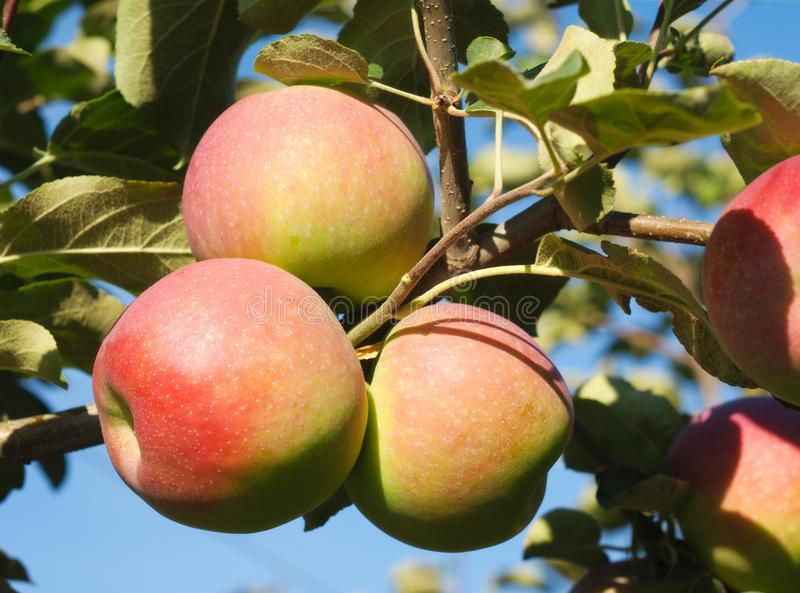apple: (90, 258, 367, 534), (180, 84, 432, 306), (341, 304, 571, 543), (658, 395, 800, 593), (701, 153, 797, 401)
